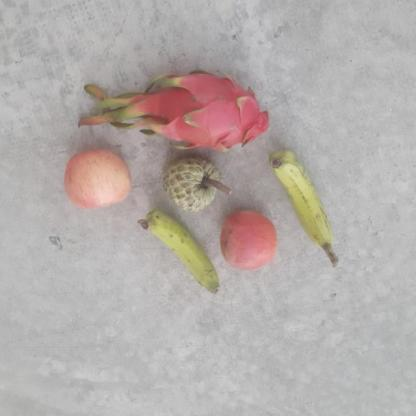annona: (160, 155, 220, 219)
apple: (60, 144, 132, 211), (214, 205, 281, 271)
banana: (134, 207, 221, 297), (268, 151, 338, 253)
pitaya: (138, 70, 272, 154)
